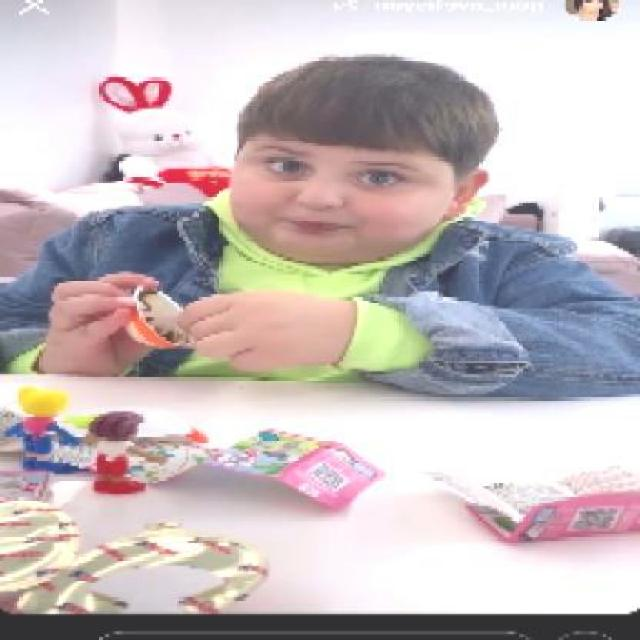child: (3, 48, 640, 403)
